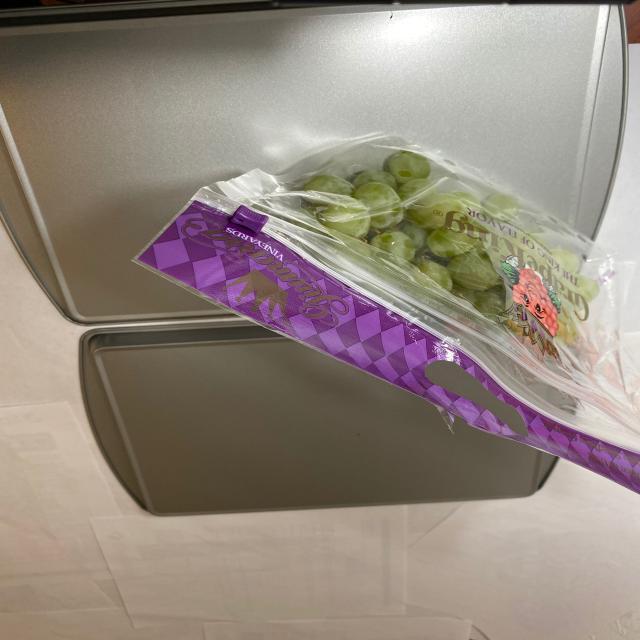grapes: (280, 147, 598, 343)
